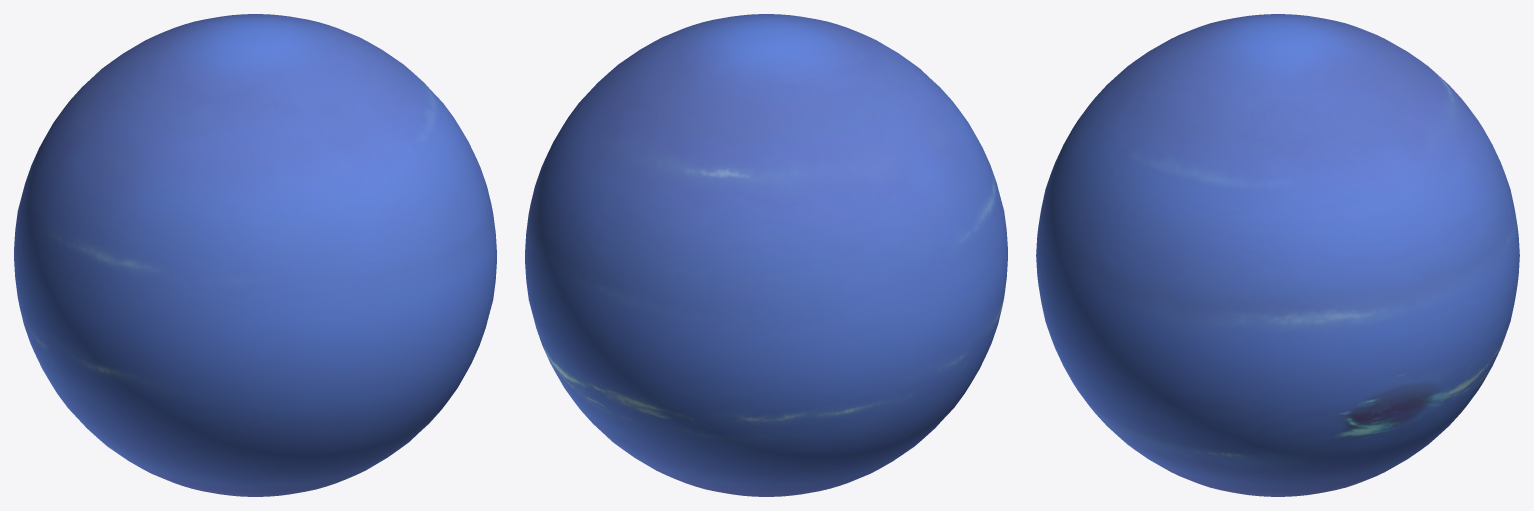
Rendered from Neptune.obj.
3 views of the same model, side by side, from view 1: azimuth 30°, elevation 25°; view 2: azimuth 150°, elevation 25°; view 3: azimuth 270°, elevation 25° (orthographic).
Parts seen in each view (by area): view 1: Sphere; view 2: Sphere; view 3: Sphere.
Boxes of the visible parts, x1,y1,x2,y2 form: Sphere: (14,14,496,496); Sphere: (525,14,1007,496); Sphere: (1036,14,1519,496).
Size of the model in its own units: 77.3 by 77.3 by 77.3.
Materials: 1 (1 with a texture image).
